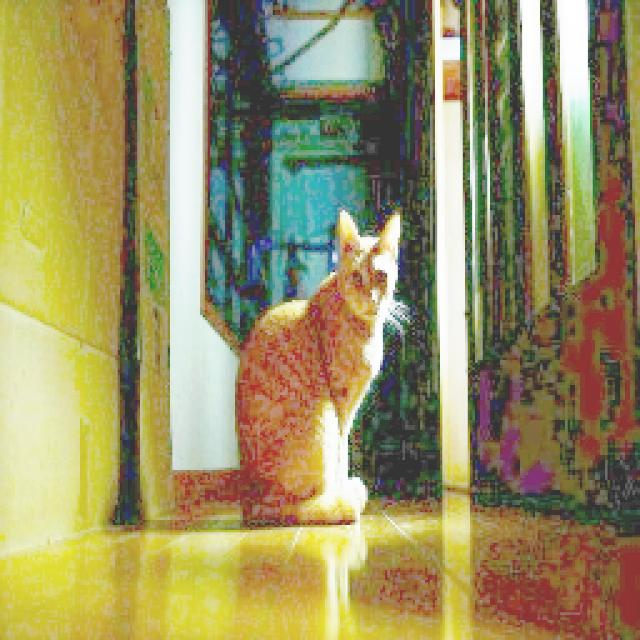cat: (228, 208, 400, 533)
